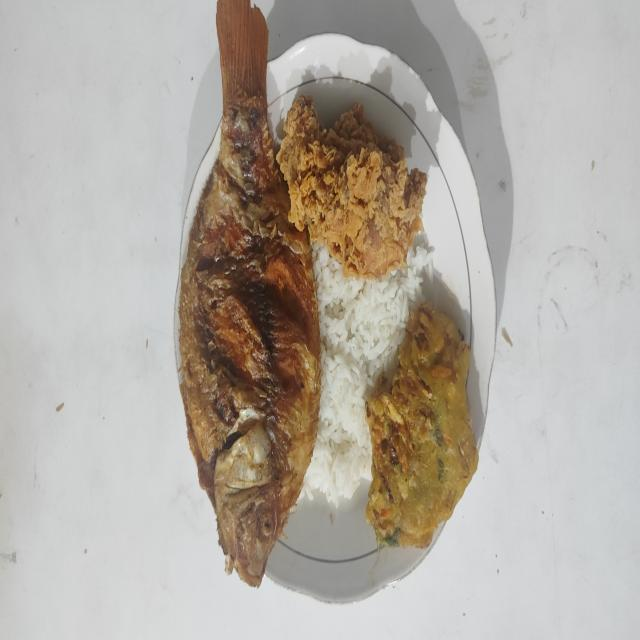ikan_mujair: (178, 0, 321, 587)
nasi_putih: (297, 231, 434, 509)
